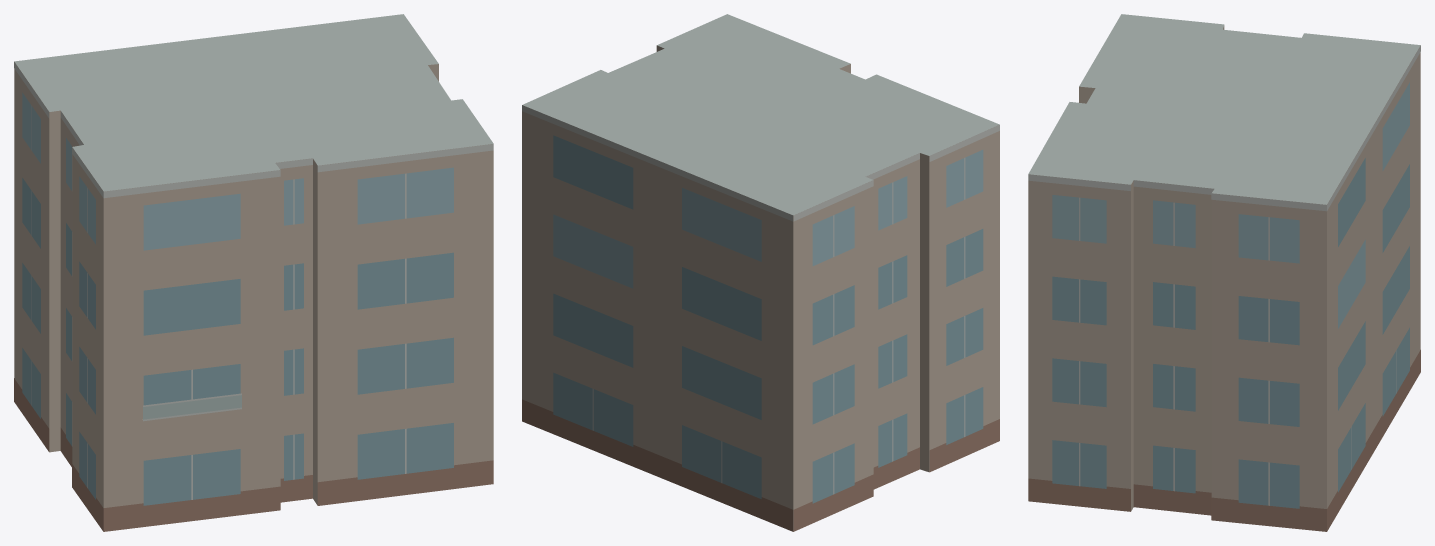
The model's file is survey-upis-32702190.glb.
The picture shows the model from 3 angles, left to right: view 1: azimuth 30°, elevation 25°; view 2: azimuth 150°, elevation 25°; view 3: azimuth 270°, elevation 25°; orthographic projection. The views are drawn at different scales.
Visible parts, largest first — view 1: survey-upis-32702190.tmp; view 2: survey-upis-32702190.tmp; view 3: survey-upis-32702190.tmp.
Boxes of the visible parts, x1,y1,x2,y2 form: survey-upis-32702190.tmp: (14,14,493,531); survey-upis-32702190.tmp: (522,14,999,531); survey-upis-32702190.tmp: (1028,14,1420,531).
Bounding box in the file's own units: 15.53 × 12.4 × 13.5.
